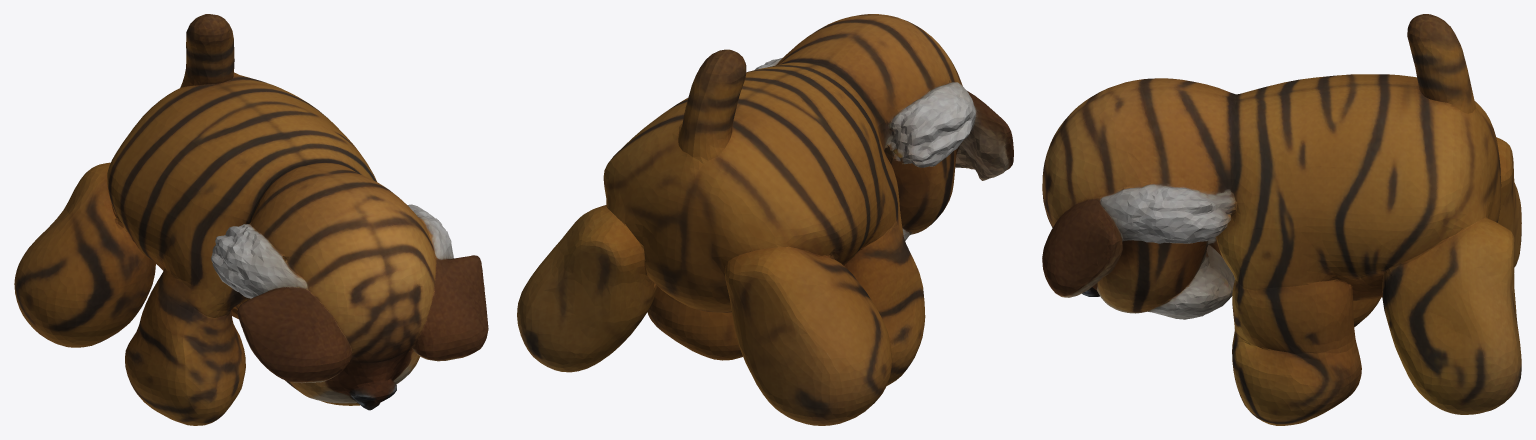
The model's file is tiger_visual_0.obj.
3 views of the same model, side by side, from view 1: azimuth 30°, elevation 25°; view 2: azimuth 150°, elevation 25°; view 3: azimuth 270°, elevation 25° (orthographic). The views are drawn at different scales.
Size of the model in its own units: 0.8383 by 0.8384 by 0.997.
Materials: 1 (1 with a texture image).
